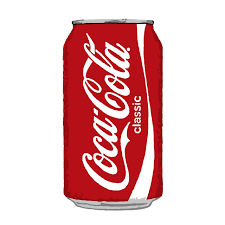coca_cola_can: (63, 19, 165, 212)
